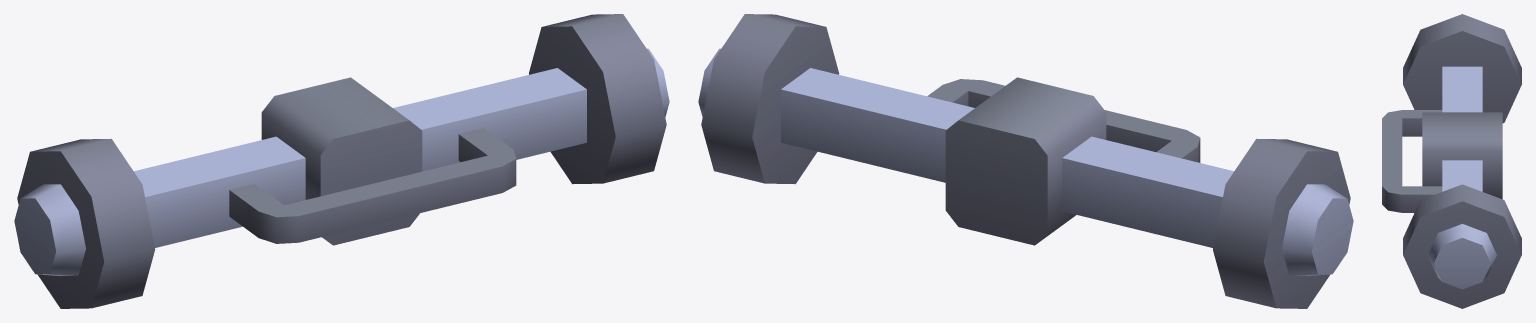
The model's file is debris-drivetrain-axle.glb.
3 renders of one model, left to right at view 1: azimuth 30°, elevation 25°; view 2: azimuth 150°, elevation 25°; view 3: azimuth 270°, elevation 25°, orthographic. The views are drawn at different scales.
Visible parts, largest first — view 1: debris-drivetrain-axle; view 2: debris-drivetrain-axle; view 3: debris-drivetrain-axle.
Part boxes in pixels (left/top/right/bottom): debris-drivetrain-axle: left=14, top=14, right=669, bottom=308; debris-drivetrain-axle: left=698, top=14, right=1353, bottom=308; debris-drivetrain-axle: left=1382, top=14, right=1521, bottom=308.
Bounding box in the file's own units: 1.2 × 0.2959 × 0.348.
Materials: 1 (1 with a texture image).
